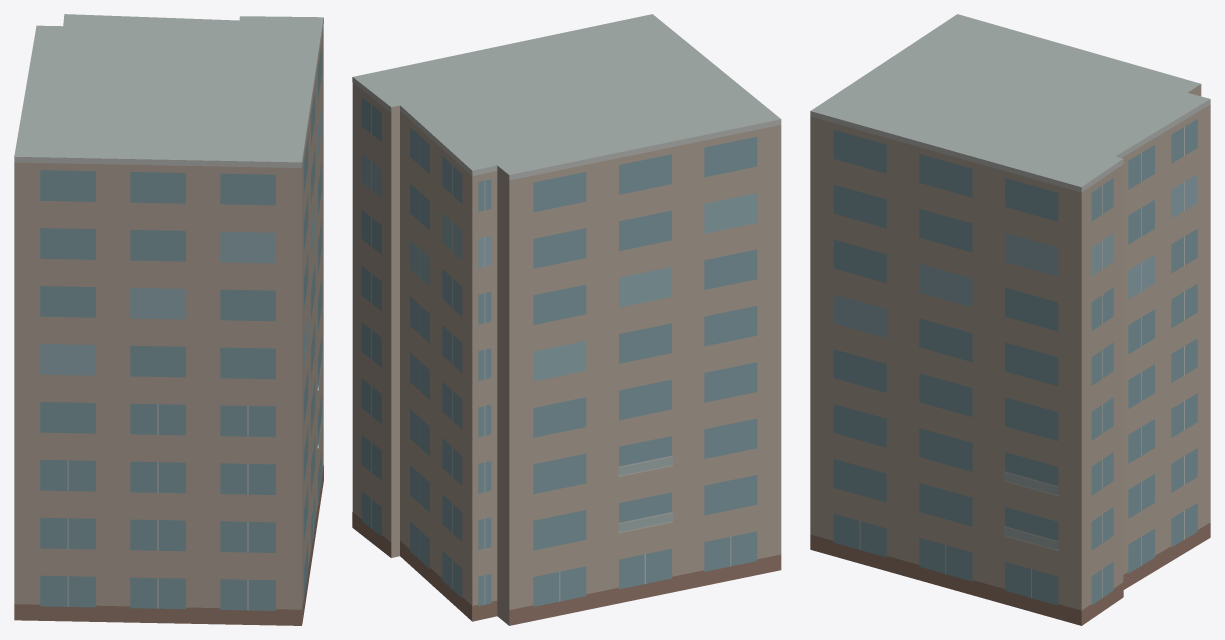
Rendered from survey-upis-32908776.glb.
The picture shows the model from 3 angles, left to right: view 1: azimuth 30°, elevation 25°; view 2: azimuth 150°, elevation 25°; view 3: azimuth 270°, elevation 25°; orthographic projection. The views are drawn at different scales.
Visible parts, largest first — view 1: survey-upis-32908776.tmp; view 2: survey-upis-32908776.tmp; view 3: survey-upis-32908776.tmp.
Part boxes in pixels (left/top/right/bottom): survey-upis-32908776.tmp: left=14, top=14, right=323, bottom=625; survey-upis-32908776.tmp: left=352, top=14, right=781, bottom=625; survey-upis-32908776.tmp: left=810, top=14, right=1210, bottom=625.
Bounding box in the file's own units: 16.87 × 19.9 × 16.46.
